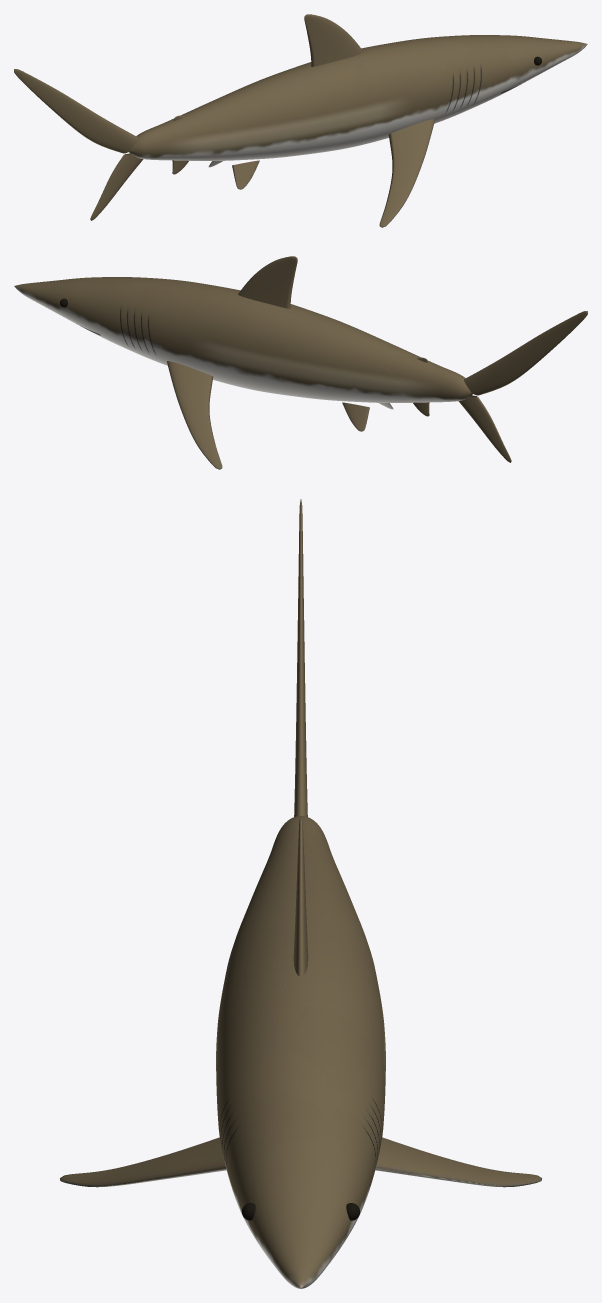
File: bronzeWhalerLo.glb
3 views of the same model, one above another, from view 1: azimuth 30°, elevation 25°; view 2: azimuth 150°, elevation 25°; view 3: azimuth 270°, elevation 25° (orthographic). The views are drawn at different scales.
Visible parts, largest first — view 1: skin; view 2: skin; view 3: skin.
Boxes of the visible parts, x1,y1,x2,y2 form: skin: (14, 14, 587, 227); skin: (14, 256, 587, 469); skin: (60, 499, 541, 1288).
Size of the model in its own units: 4.01 by 1.27 by 1.46.
1 material, 1 textured.
